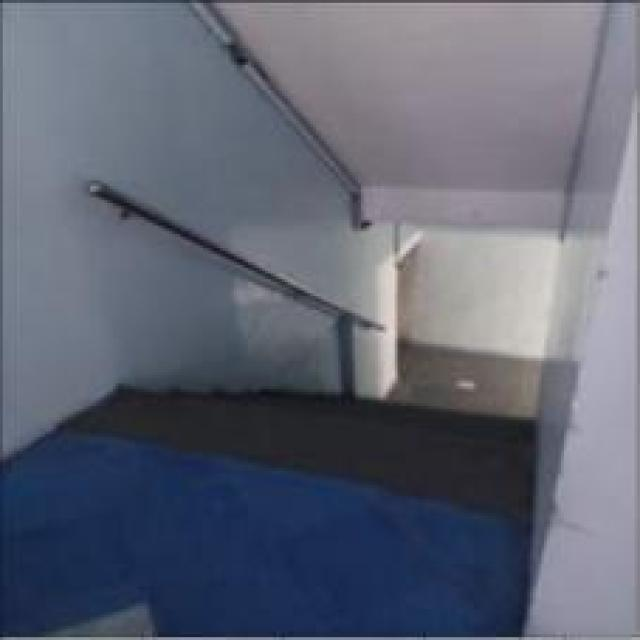downstair: (196, 297, 531, 478)
